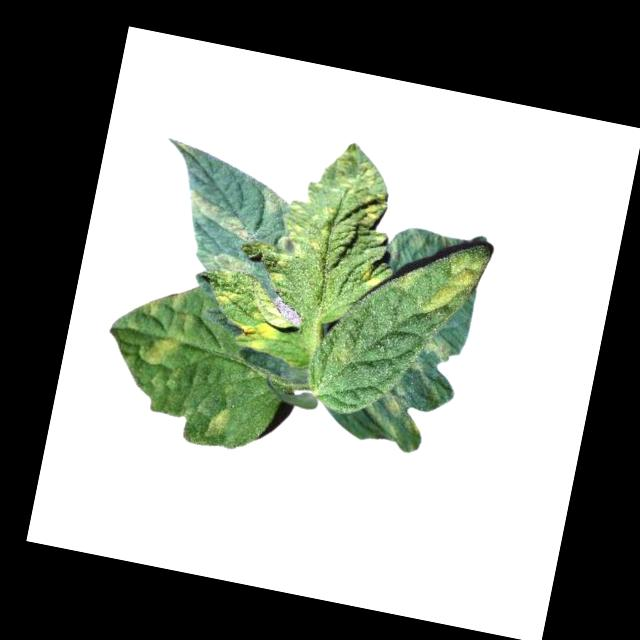Leaf_Mold: (278, 132, 408, 272), (416, 241, 490, 327), (129, 286, 197, 371), (357, 379, 430, 454), (179, 187, 260, 243), (226, 312, 289, 356), (195, 246, 262, 281), (205, 400, 234, 441), (422, 333, 461, 362), (260, 180, 291, 212), (359, 261, 387, 290)
